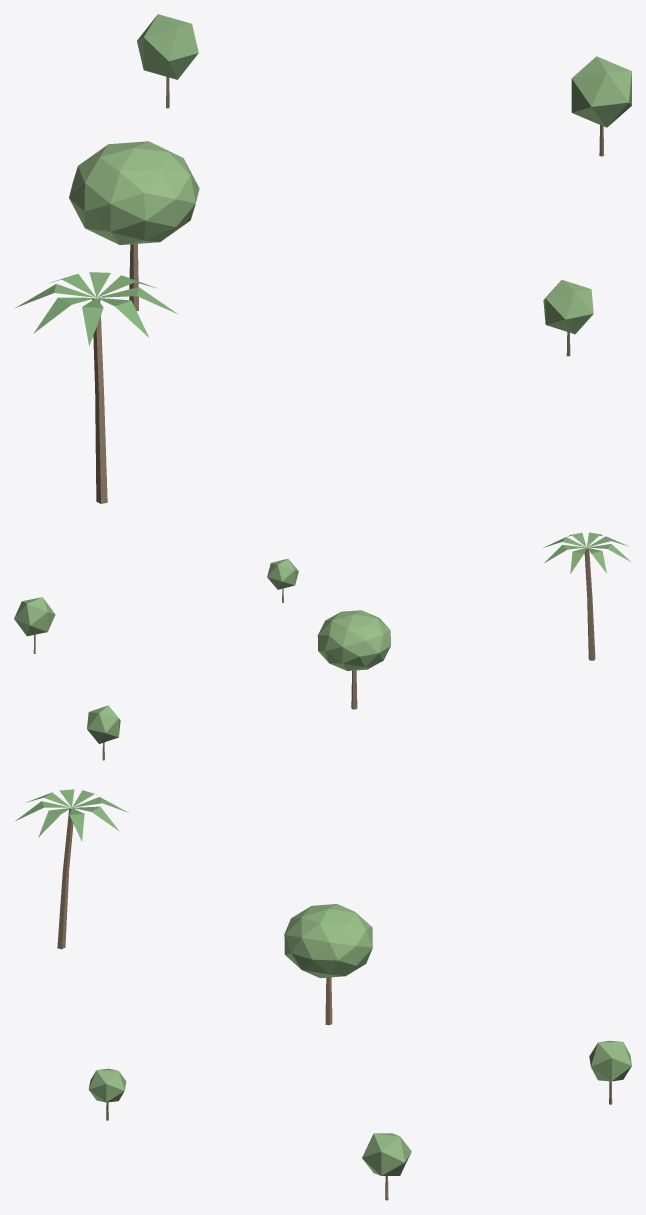
Rendered from nature_-2_-8.glb.
3 renders of one model, top to bottom at view 1: azimuth 30°, elevation 25°; view 2: azimuth 150°, elevation 25°; view 3: azimuth 270°, elevation 25°, orthographic. The views are drawn at different scales.
Parts seen in each view (by area): view 1: foliage_b, palm_leaf, trunk; view 2: foliage_b, palm_leaf, trunk; view 3: foliage_b, palm_leaf, trunk.
Boxes of the visible parts, bbox=[...] form: foliage_b: bbox=[69, 14, 631, 334]; palm_leaf: bbox=[15, 272, 177, 345]; trunk: bbox=[92, 77, 603, 503]; foliage_b: bbox=[14, 558, 390, 743]; palm_leaf: bbox=[543, 532, 630, 573]; trunk: bbox=[33, 548, 595, 760]; foliage_b: bbox=[88, 904, 631, 1175]; palm_leaf: bbox=[15, 789, 128, 841]; trunk: bbox=[57, 808, 612, 1200].
Size of the model in its own units: 31.51 by 7.51 by 28.84.
